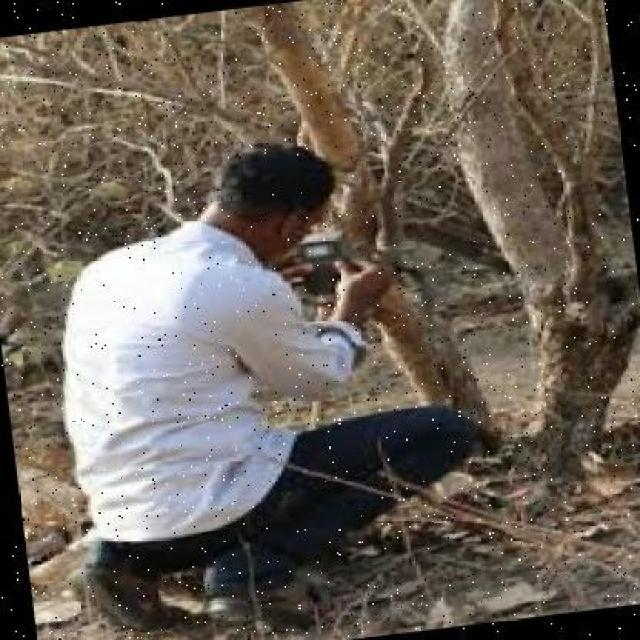poacher: (49, 120, 440, 636)
